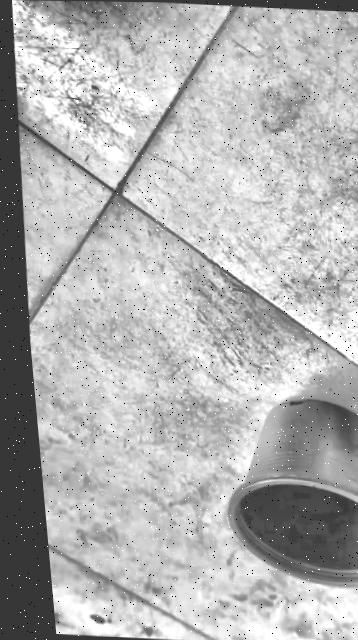pot: (212, 395, 358, 590)
